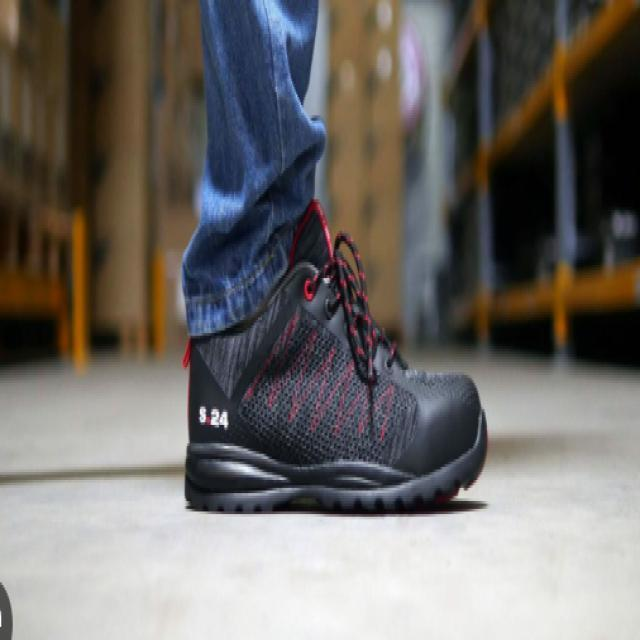shoes: (177, 191, 496, 526)
